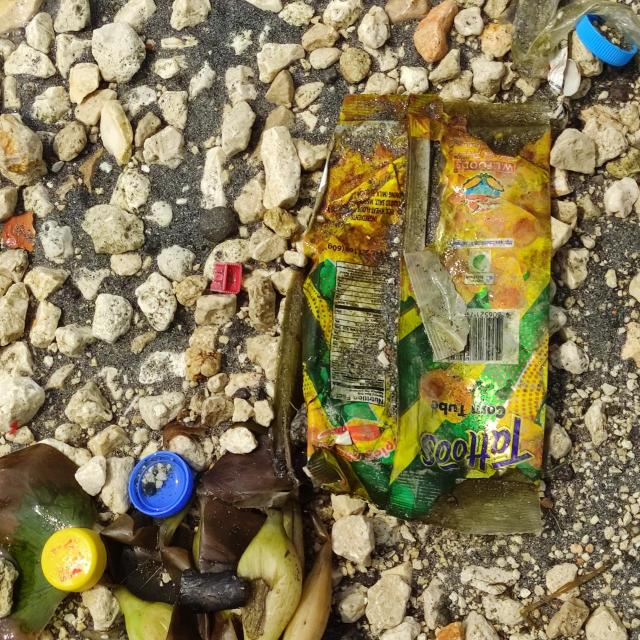plastic_waste: (297, 91, 554, 525), (128, 451, 195, 519), (42, 529, 107, 594), (576, 16, 638, 67)
